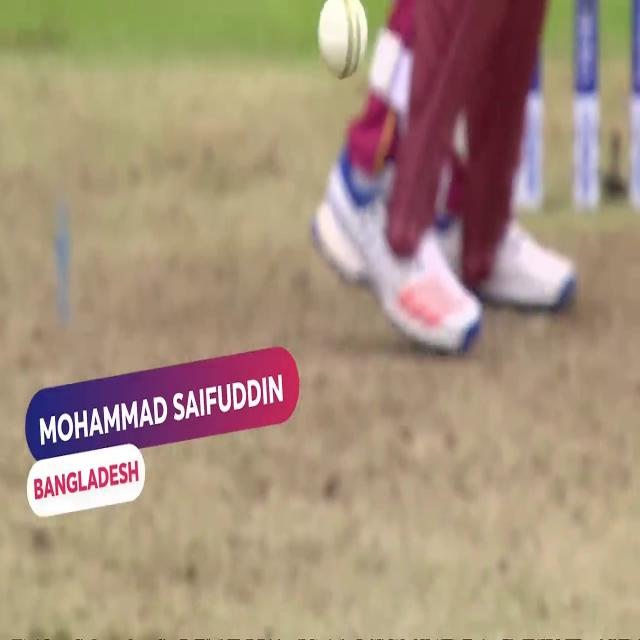ball: (308, 1, 370, 83)
